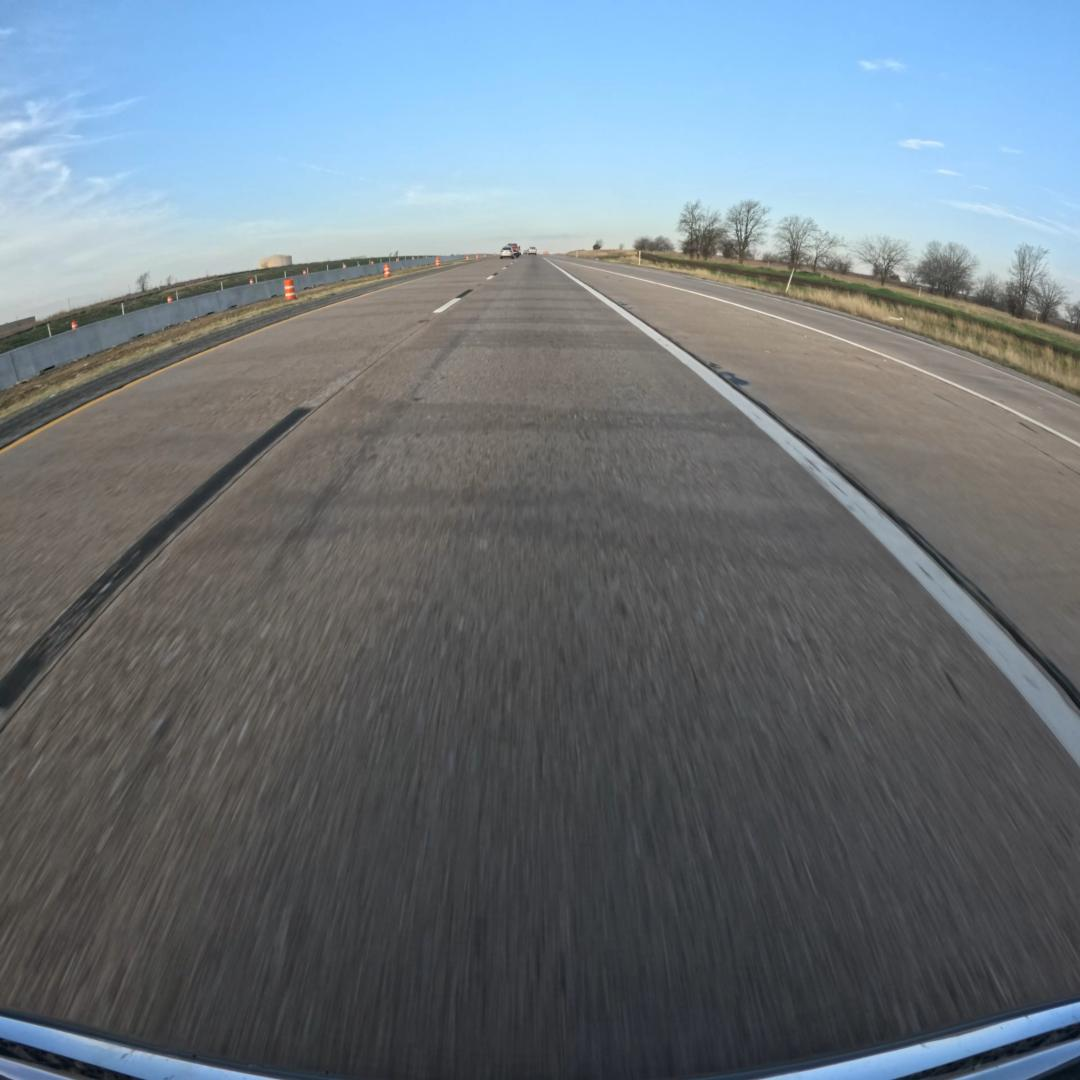lane-1: (561, 261, 1080, 688)
lane0: (0, 258, 1080, 1077)
lane1: (0, 258, 504, 727)
